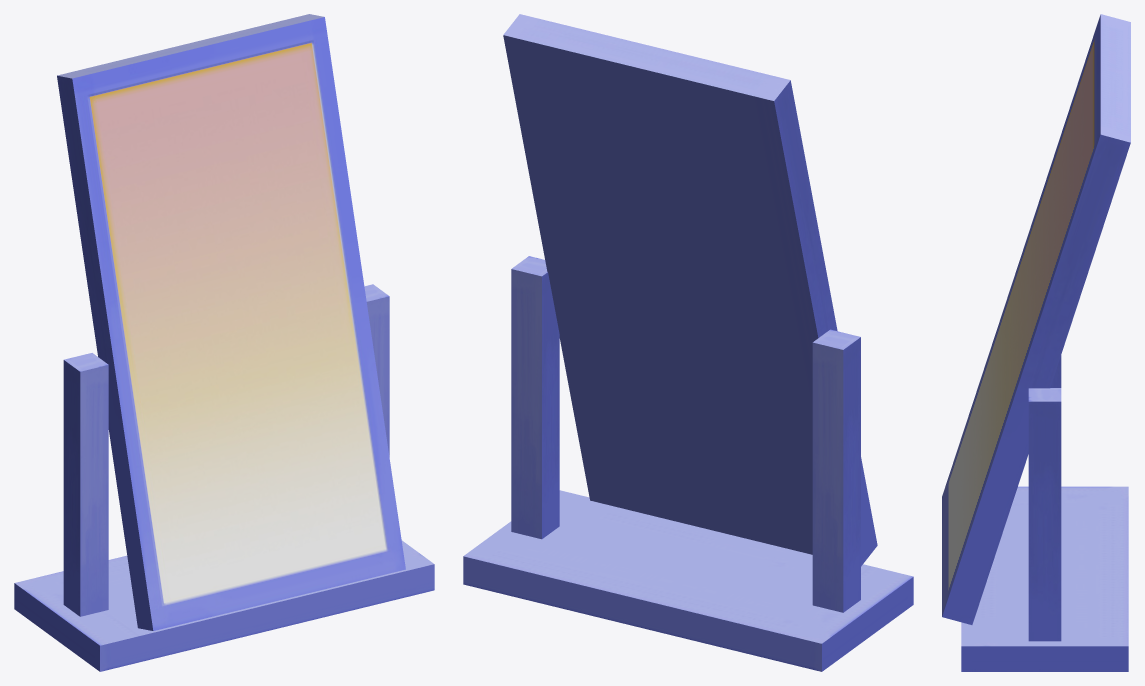
The model's file is mirrorTable2.fbx.
The picture shows the model from 3 angles, left to right: view 1: azimuth 30°, elevation 25°; view 2: azimuth 150°, elevation 25°; view 3: azimuth 270°, elevation 25°; orthographic projection. The views are drawn at different scales.
Parts seen in each view (by area): view 1: mirror2; view 2: mirror2; view 3: mirror2.
Boxes of the visible parts, x1=… form: mirror2: x1=14, y1=14, x2=434, y2=671; mirror2: x1=463, y1=14, x2=913, y2=671; mirror2: x1=942, y1=14, x2=1130, y2=671.
Size of the model in its own units: 5.9 by 8.94 by 2.95.
